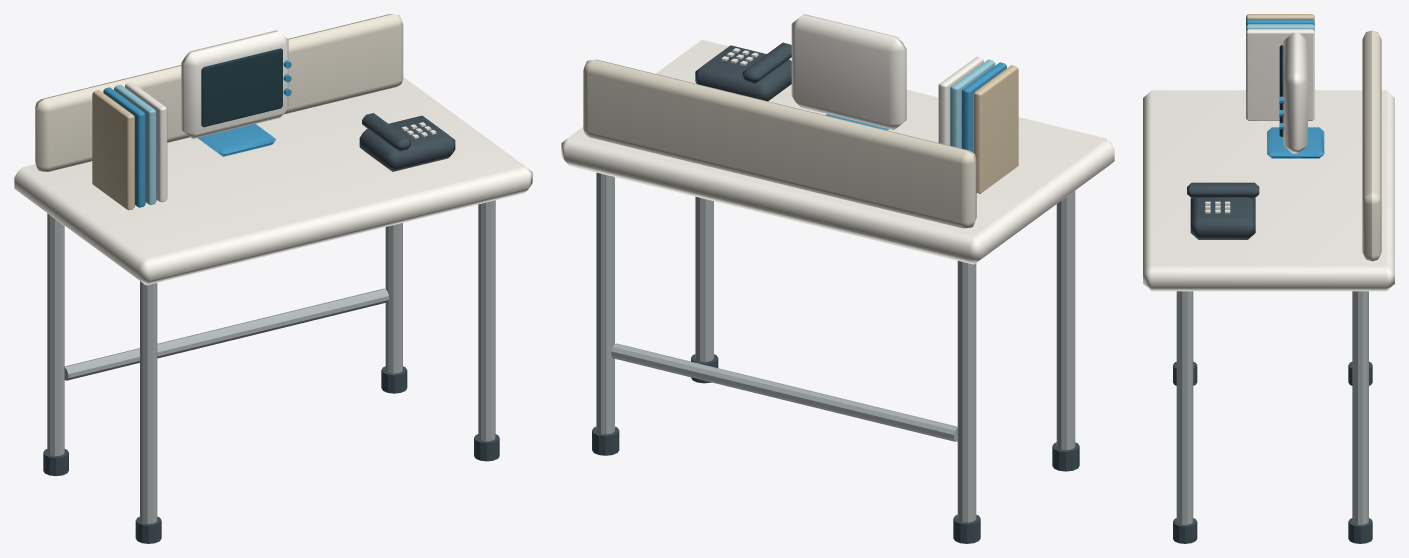
File: TeamDesk_starter.glb
3 renders of one model, left to right at view 1: azimuth 30°, elevation 25°; view 2: azimuth 150°, elevation 25°; view 3: azimuth 270°, elevation 25°, orthographic. The views are drawn at different scales.
Parts seen in each view (by area): view 1: Static_white, Static_steel, Static_ivory, Static_dark, Static_screen, Static_linen, Static_blue, Static_lightblue; view 2: Static_white, Static_ivory, Static_steel, Static_dark, Static_linen, Static_blue, Static_lightblue; view 3: Static_white, Static_steel, Static_dark, Static_ivory, Static_blue, Static_screen, Static_lightblue, Static_linen.
Boxes of the visible parts, box(x1,y1,x2,y2) form: Static_white: box(14, 30, 532, 285); Static_steel: box(47, 200, 495, 523); Static_ivory: box(35, 14, 403, 171); Static_dark: box(43, 113, 499, 543); Static_screen: box(201, 48, 282, 127); Static_linen: box(92, 90, 134, 210); Static_blue: box(103, 60, 291, 207); Static_lightblue: box(114, 84, 156, 205); Static_white: box(561, 14, 1114, 264); Static_ivory: box(583, 59, 976, 228); Static_steel: box(596, 172, 1075, 522); Static_dark: box(592, 42, 1079, 543); Static_linen: box(973, 65, 1018, 193); Static_blue: box(826, 62, 1006, 152); Static_lightblue: box(950, 59, 995, 148); Static_white: box(1143, 29, 1394, 291); Static_steel: box(1176, 291, 1368, 524); Static_dark: box(1173, 182, 1372, 543); Static_ivory: box(1362, 30, 1381, 261); Static_blue: box(1246, 19, 1324, 158); Static_screen: box(1279, 45, 1283, 136); Static_lightblue: box(1246, 24, 1314, 30); Static_linen: box(1246, 14, 1314, 20).
Bounding box in the file's own units: 1.13 × 1.15 × 0.66.
